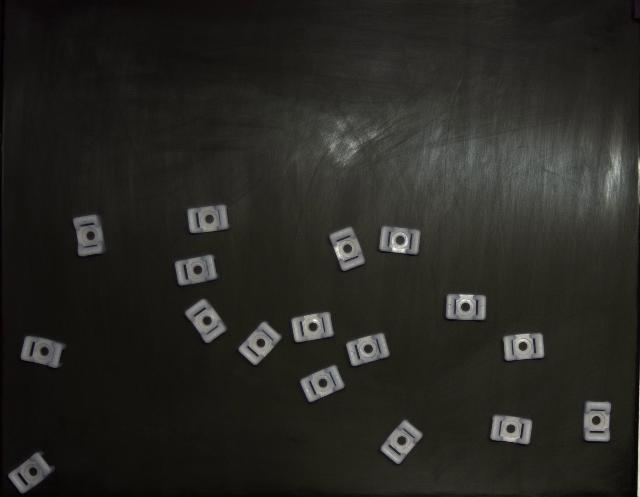first_side: (9, 452, 55, 494), (185, 300, 228, 344), (380, 420, 422, 465), (239, 321, 281, 365), (300, 365, 345, 402), (20, 336, 66, 369), (330, 228, 365, 271), (346, 334, 390, 366), (175, 255, 219, 286), (72, 215, 105, 256), (291, 312, 334, 342), (490, 415, 532, 445), (379, 226, 421, 255), (188, 205, 229, 234), (502, 334, 544, 361), (445, 294, 486, 321), (584, 401, 611, 442)
